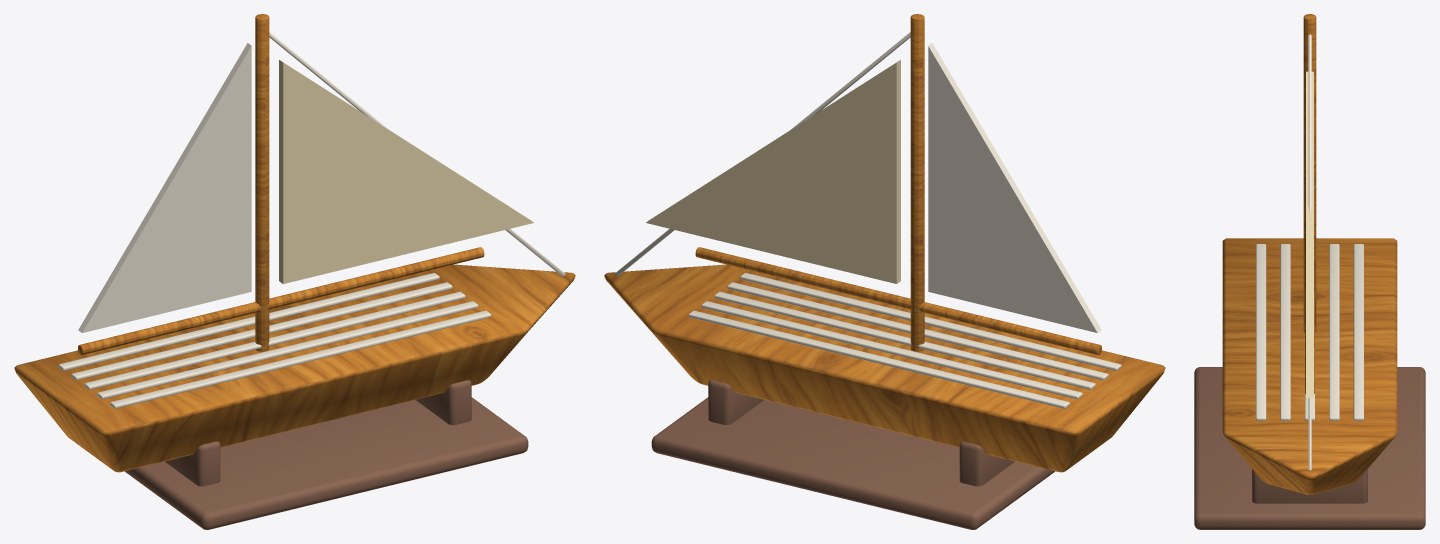
The model's file is model-sailboat.glb.
3 views of the same model, side by side, from view 1: azimuth 30°, elevation 25°; view 2: azimuth 150°, elevation 25°; view 3: azimuth 270°, elevation 25° (orthographic). The views are drawn at different scales.
Parts seen in each view (by area): view 1: model-sailboat; view 2: model-sailboat; view 3: model-sailboat.
Boxes of the visible parts, x1,y1,x2,y2 form: model-sailboat: [14, 14, 575, 529]; model-sailboat: [604, 14, 1165, 529]; model-sailboat: [1194, 14, 1425, 529].
Bounding box in the file's own units: 0.44 × 0.36 × 0.18.
Materials: 4 (2 with a texture image).
